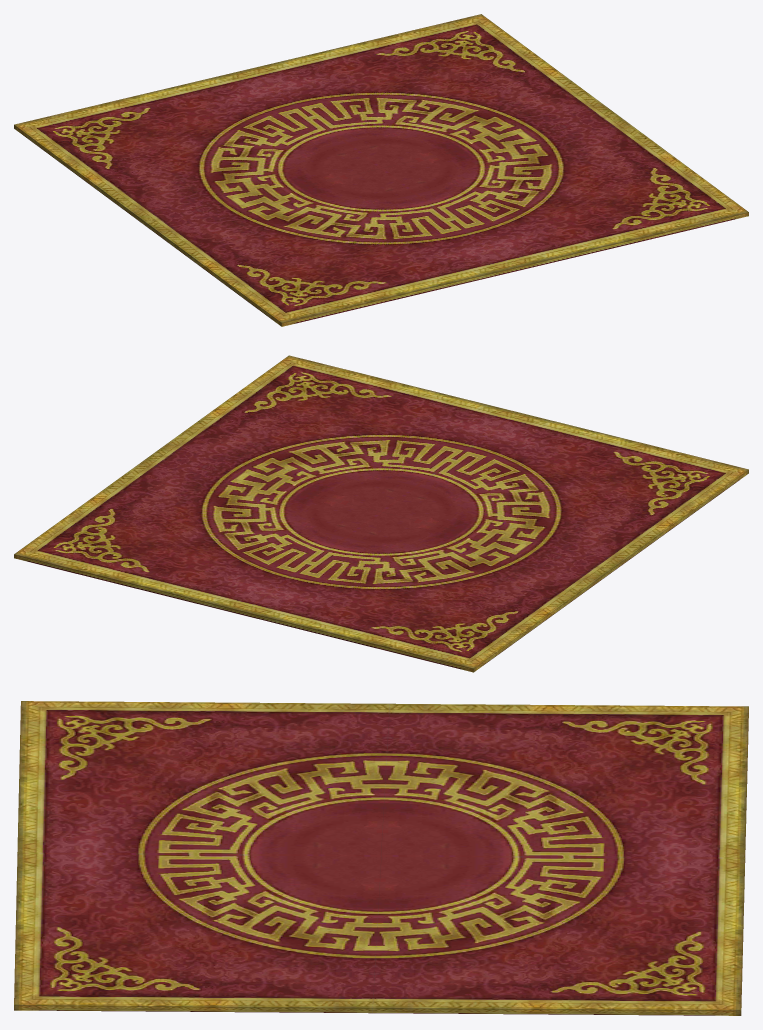
Rendered from h5_ditan.FBX.
3 views of the same model, one above another, from view 1: azimuth 30°, elevation 25°; view 2: azimuth 150°, elevation 25°; view 3: azimuth 270°, elevation 25° (orthographic). The views are drawn at different scales.
Visible parts, largest first — view 1: h5_ditan; view 2: h5_ditan; view 3: h5_ditan.
Part boxes in pixels (box(x1,y1,x2,y2)): h5_ditan: box(14, 14, 748, 326); h5_ditan: box(14, 355, 748, 672); h5_ditan: box(14, 701, 748, 1015).
Bounding box in the file's own units: 17.11 × 0.2275 × 17.36.
Materials: 1 (1 with a texture image).
